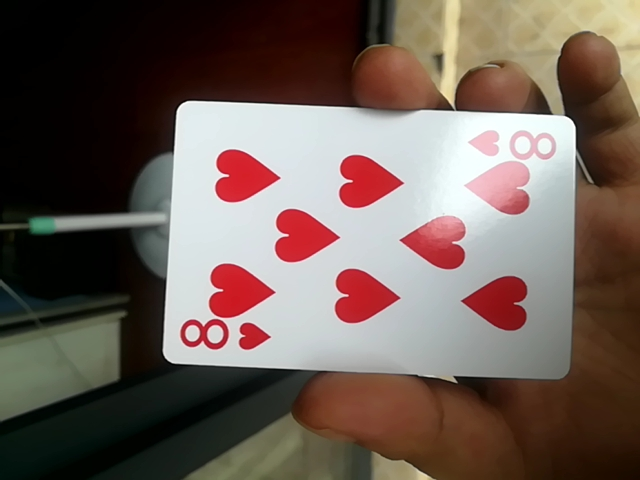hx 8: (159, 98, 577, 379)
